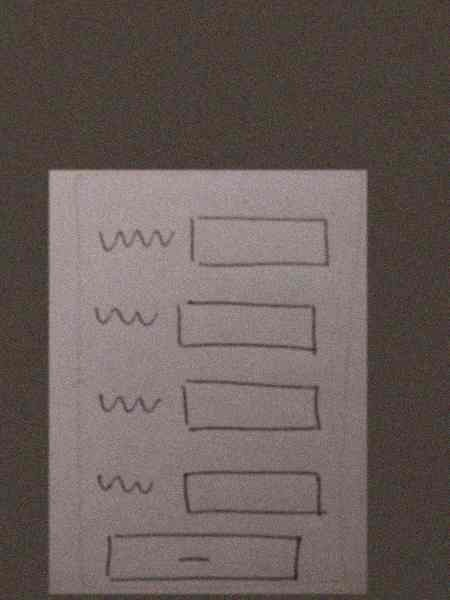button: (100, 528, 306, 587)
text: (90, 221, 179, 255), (89, 384, 166, 422), (91, 298, 162, 338), (91, 466, 157, 503)
text_input: (185, 207, 337, 277), (171, 292, 323, 359), (176, 374, 328, 439), (180, 465, 334, 523)
